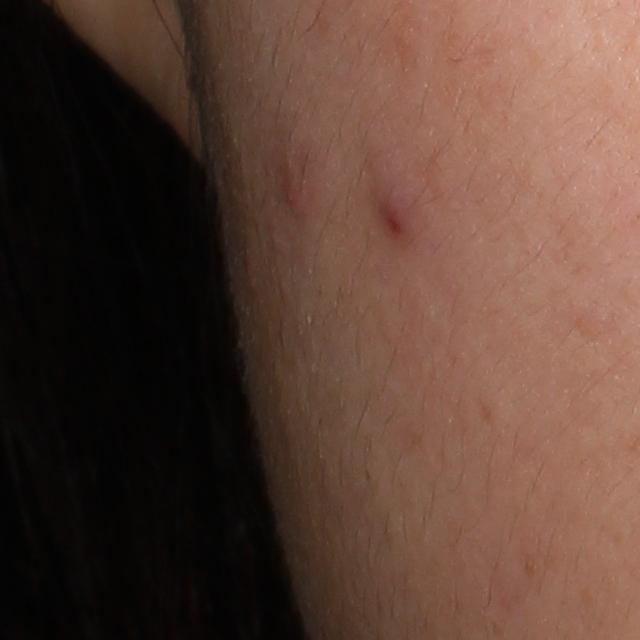papule: (376, 190, 415, 242), (284, 175, 311, 214)
